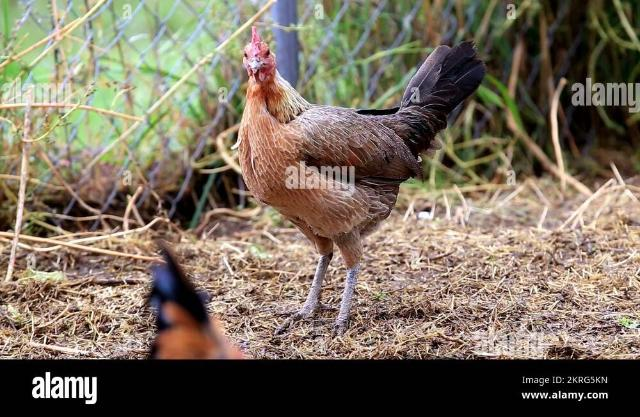Chicken: (236, 25, 489, 324)
